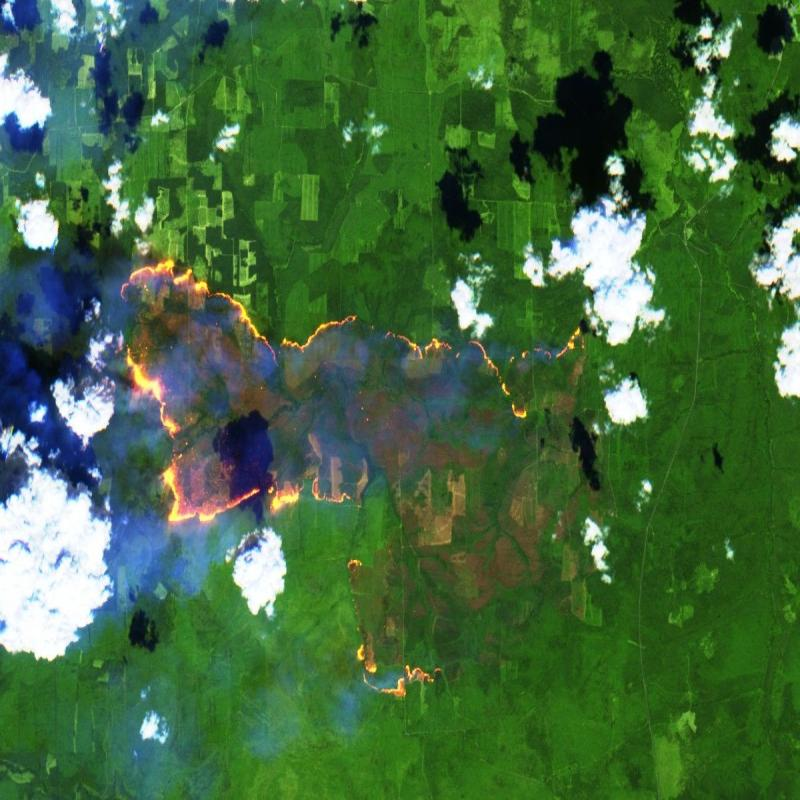fire: (113, 246, 583, 532), (343, 550, 443, 702)
